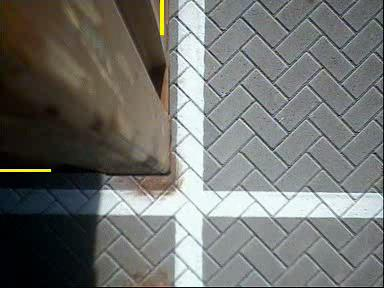groundmarker_2: (197, 131, 241, 187)
